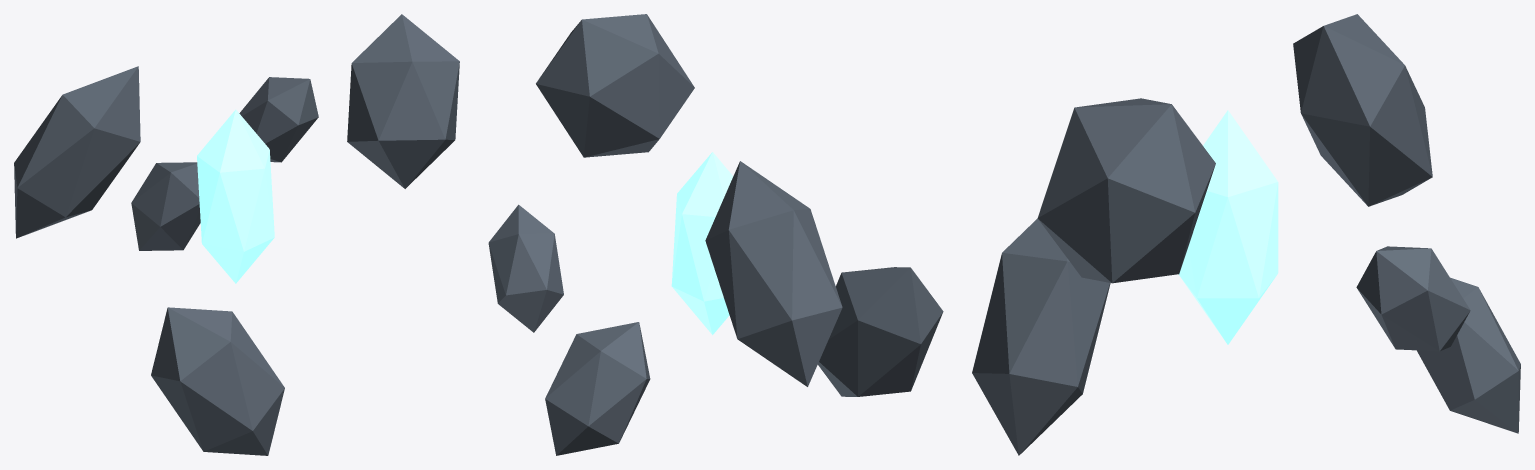
Rendered from floating_debris_pack.glb.
3 views of the same model, side by side, from view 1: azimuth 30°, elevation 25°; view 2: azimuth 150°, elevation 25°; view 3: azimuth 270°, elevation 25° (orthographic). The views are drawn at different scales.
Visible parts, largest first — view 1: Floating_Debris_Pack; view 2: Floating_Debris_Pack; view 3: Floating_Debris_Pack.
Part boxes in pixels (left/top/right/bottom): Floating_Debris_Pack: left=14, top=14, right=459, bottom=455; Floating_Debris_Pack: left=488, top=14, right=943, bottom=455; Floating_Debris_Pack: left=972, top=14, right=1520, bottom=455.
Size of the model in its own units: 3.24 by 3.12 by 3.25.
